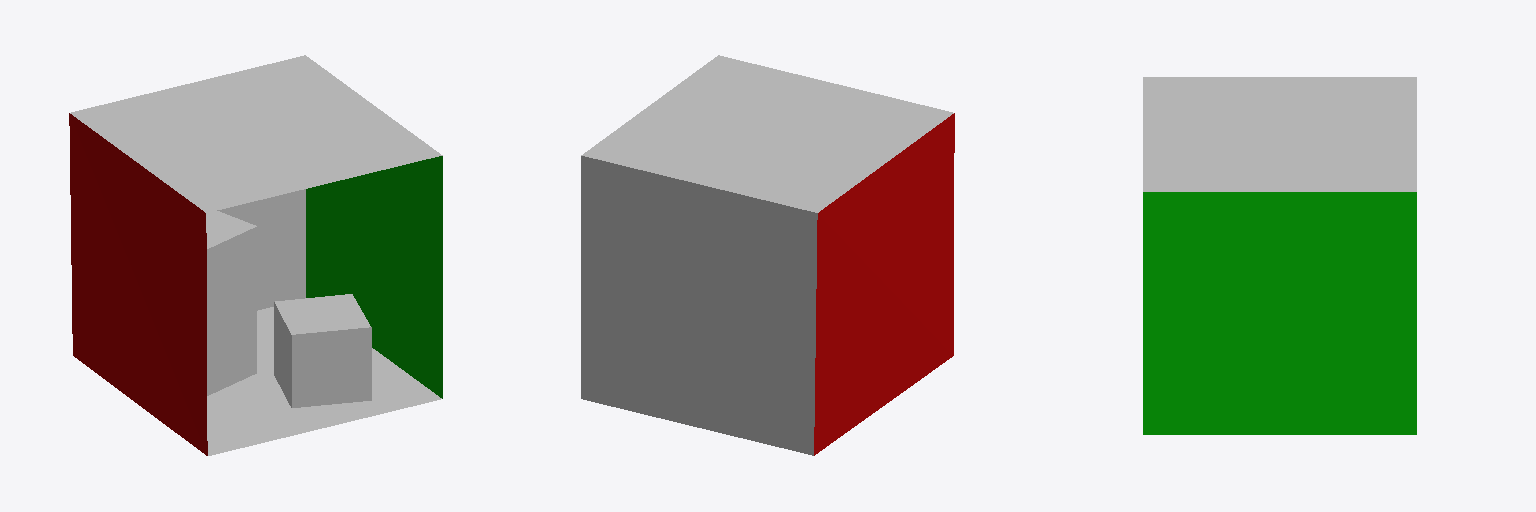
3 renders of one model, left to right at view 1: azimuth 30°, elevation 25°; view 2: azimuth 150°, elevation 25°; view 3: azimuth 270°, elevation 25°, orthographic.
Parts seen in each view (by area): view 1: leftWall, ceiling, rightWall, floor, shortBox, backWall; view 2: backWall, leftWall, ceiling; view 3: rightWall, ceiling.
Boxes of the visible parts, <box> form: leftWall: <box>69,113,371,455</box>; ceiling: <box>70,55,442,212</box>; rightWall: <box>306,156,442,398</box>; floor: <box>207,307,441,455</box>; shortBox: <box>206,211,256,395</box>; backWall: <box>217,189,305,310</box>; backWall: <box>581,156,817,455</box>; leftWall: <box>814,113,954,455</box>; ceiling: <box>581,55,953,212</box>; rightWall: <box>1143,192,1416,434</box>; ceiling: <box>1143,77,1416,191</box>.
Size of the model in its own units: 2.02 by 1.99 by 2.03.